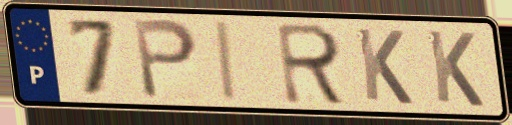7: (65, 17, 122, 98)
I: (215, 19, 241, 104)
K: (352, 25, 416, 108), (424, 27, 487, 110)
P: (130, 17, 201, 102)
R: (274, 21, 351, 108)
